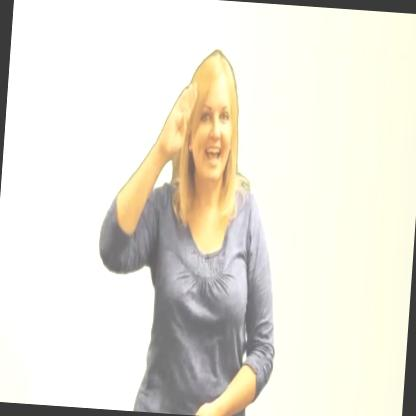Hello: (137, 30, 260, 208)
